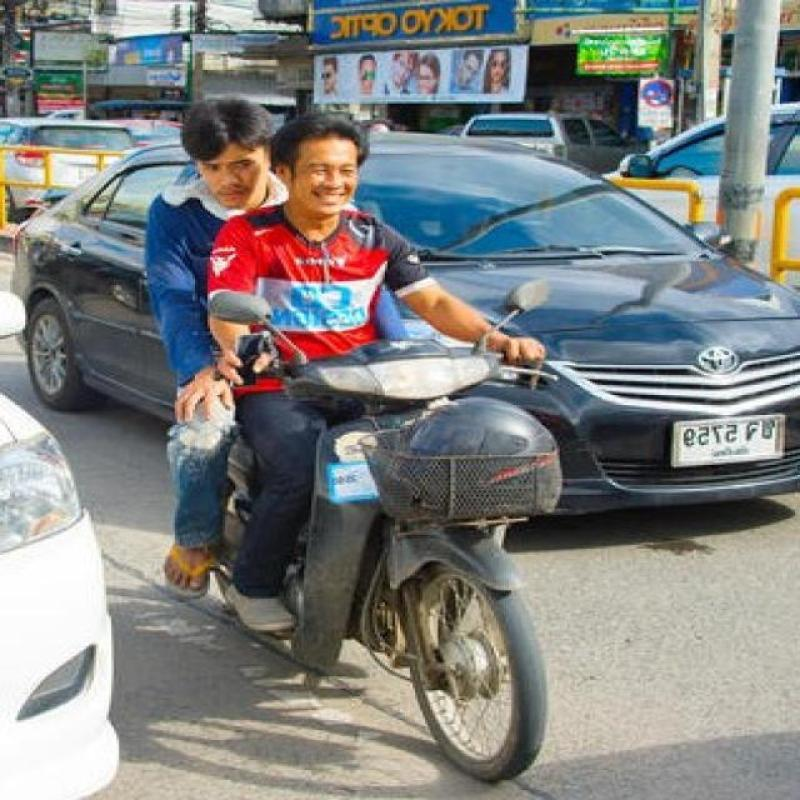nohelmet: (274, 119, 401, 223), (180, 90, 281, 209)
